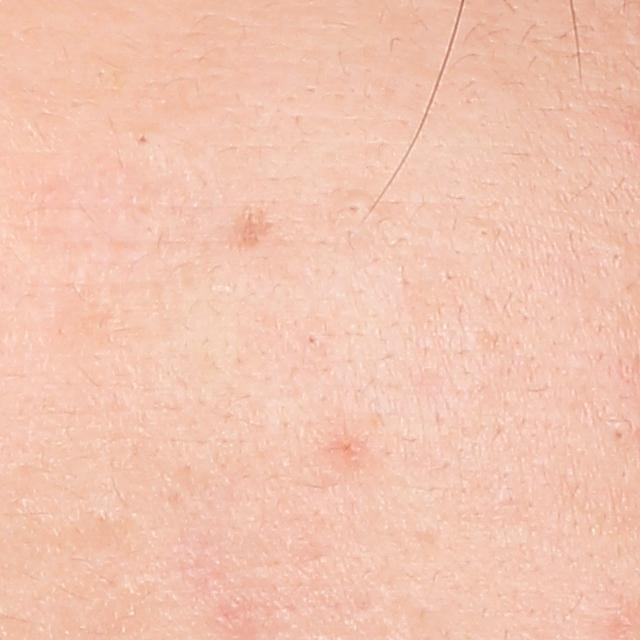comedo: (344, 196, 363, 217), (134, 129, 151, 146), (305, 333, 318, 347)
